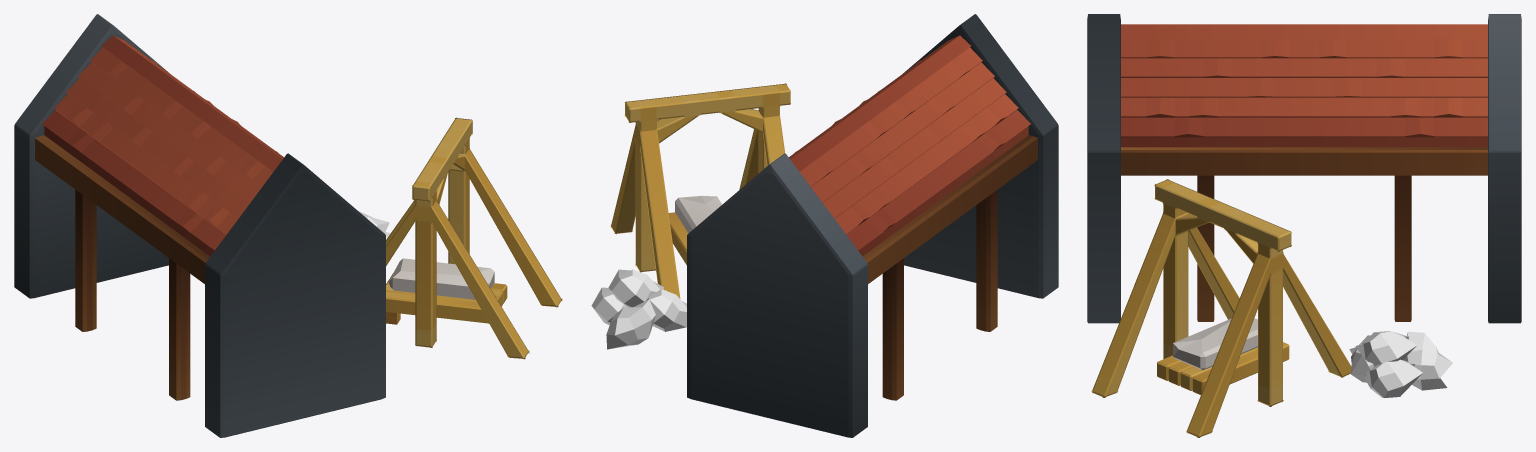
The model's file is  Mud_Saw.glb.
The picture shows the model from 3 angles, left to right: view 1: azimuth 30°, elevation 25°; view 2: azimuth 150°, elevation 25°; view 3: azimuth 270°, elevation 25°; orthographic projection. The views are drawn at different scales.
Parts seen in each view (by area): view 1: Cube, Cube.003, Cube.004, Cube.006; view 2: Cube, Cube.003, Cube.008, Cube.006, Cube.004; view 3: Cube, Cube.003, Cube.008, Cube.006, Cube.004.
Part boxes in pixels (left/top/right/bottom): Cube: left=14, top=14, right=385, bottom=437; Cube.003: left=386, top=117, right=562, bottom=359; Cube.004: left=386, top=274, right=507, bottom=323; Cube.006: left=388, top=258, right=494, bottom=299; Cube: left=687, top=14, right=1058, bottom=437; Cube.003: left=610, top=83, right=790, bottom=298; Cube.008: left=591, top=269, right=686, bottom=349; Cube.006: left=675, top=195, right=721, bottom=233; Cube.004: left=668, top=212, right=688, bottom=265; Cube: left=1087, top=14, right=1521, bottom=323; Cube.003: left=1091, top=179, right=1351, bottom=437; Cube.008: left=1349, top=331, right=1452, bottom=397; Cube.006: left=1173, top=318, right=1257, bottom=370; Cube.004: left=1157, top=342, right=1289, bottom=394.
Bounding box in the file's own units: 9.3 × 5.89 × 8.42.
Materials: 1 (1 with a texture image).
